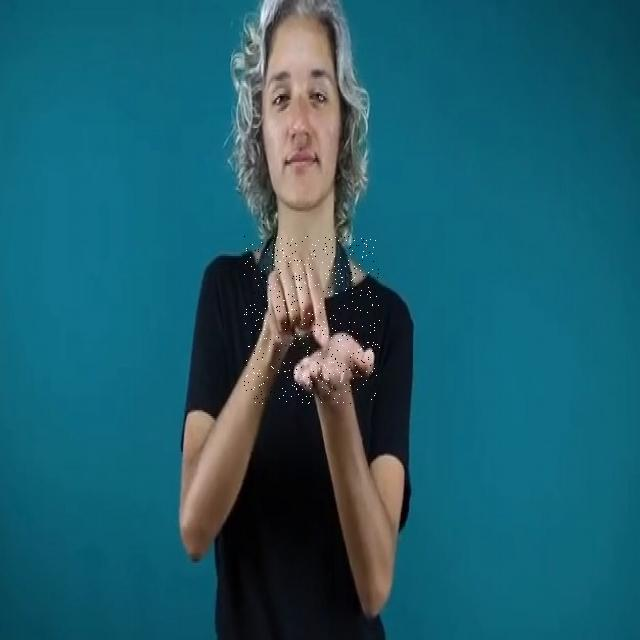chicken: (244, 236, 380, 404)
